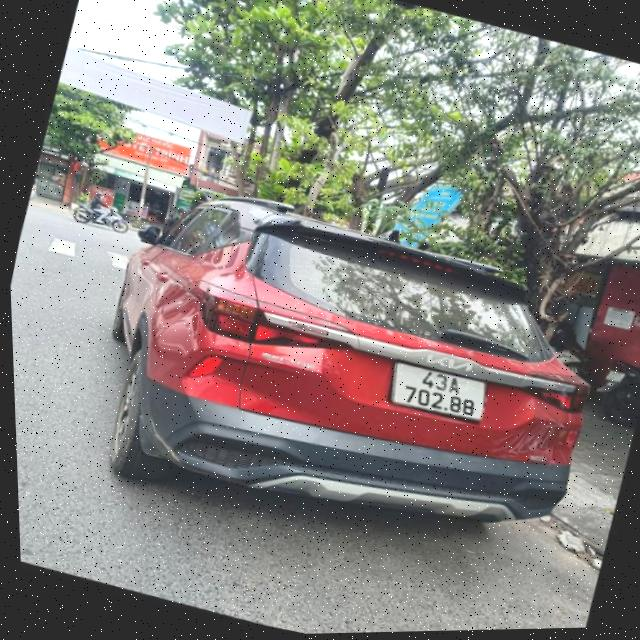car: (70, 168, 627, 588)
plate: (381, 351, 495, 429)
